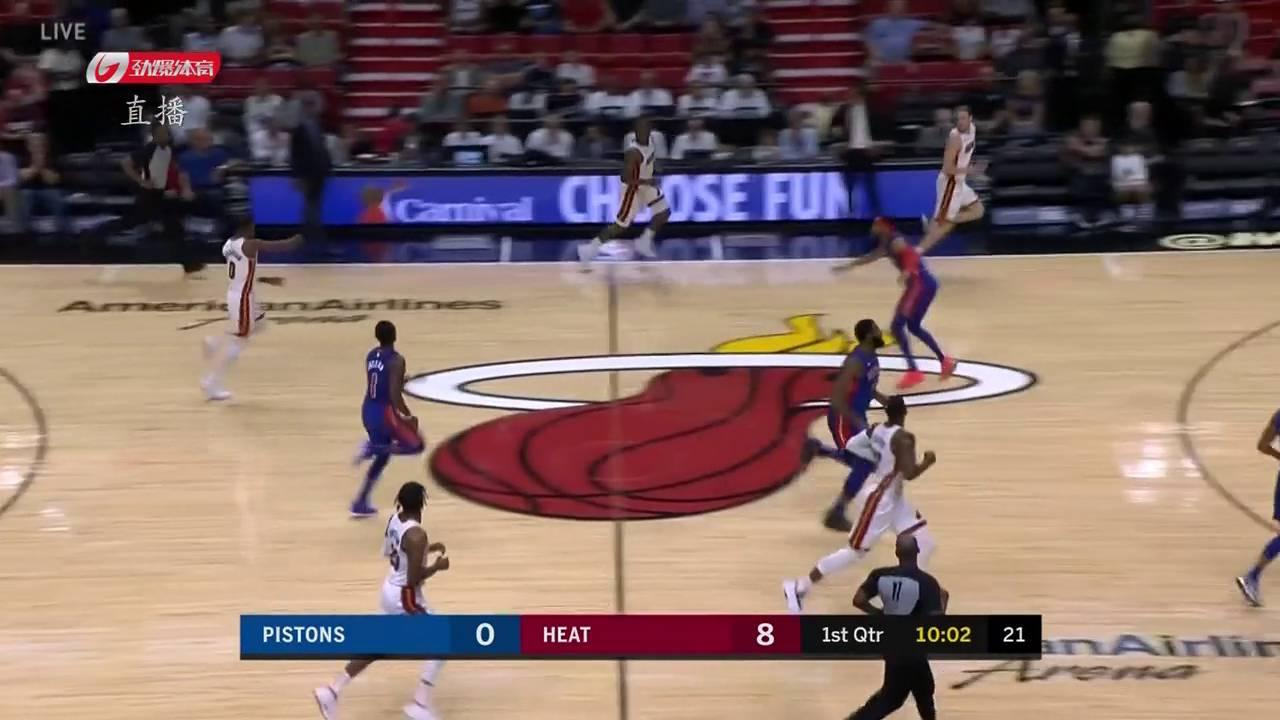basketball: (364, 182, 388, 206)
